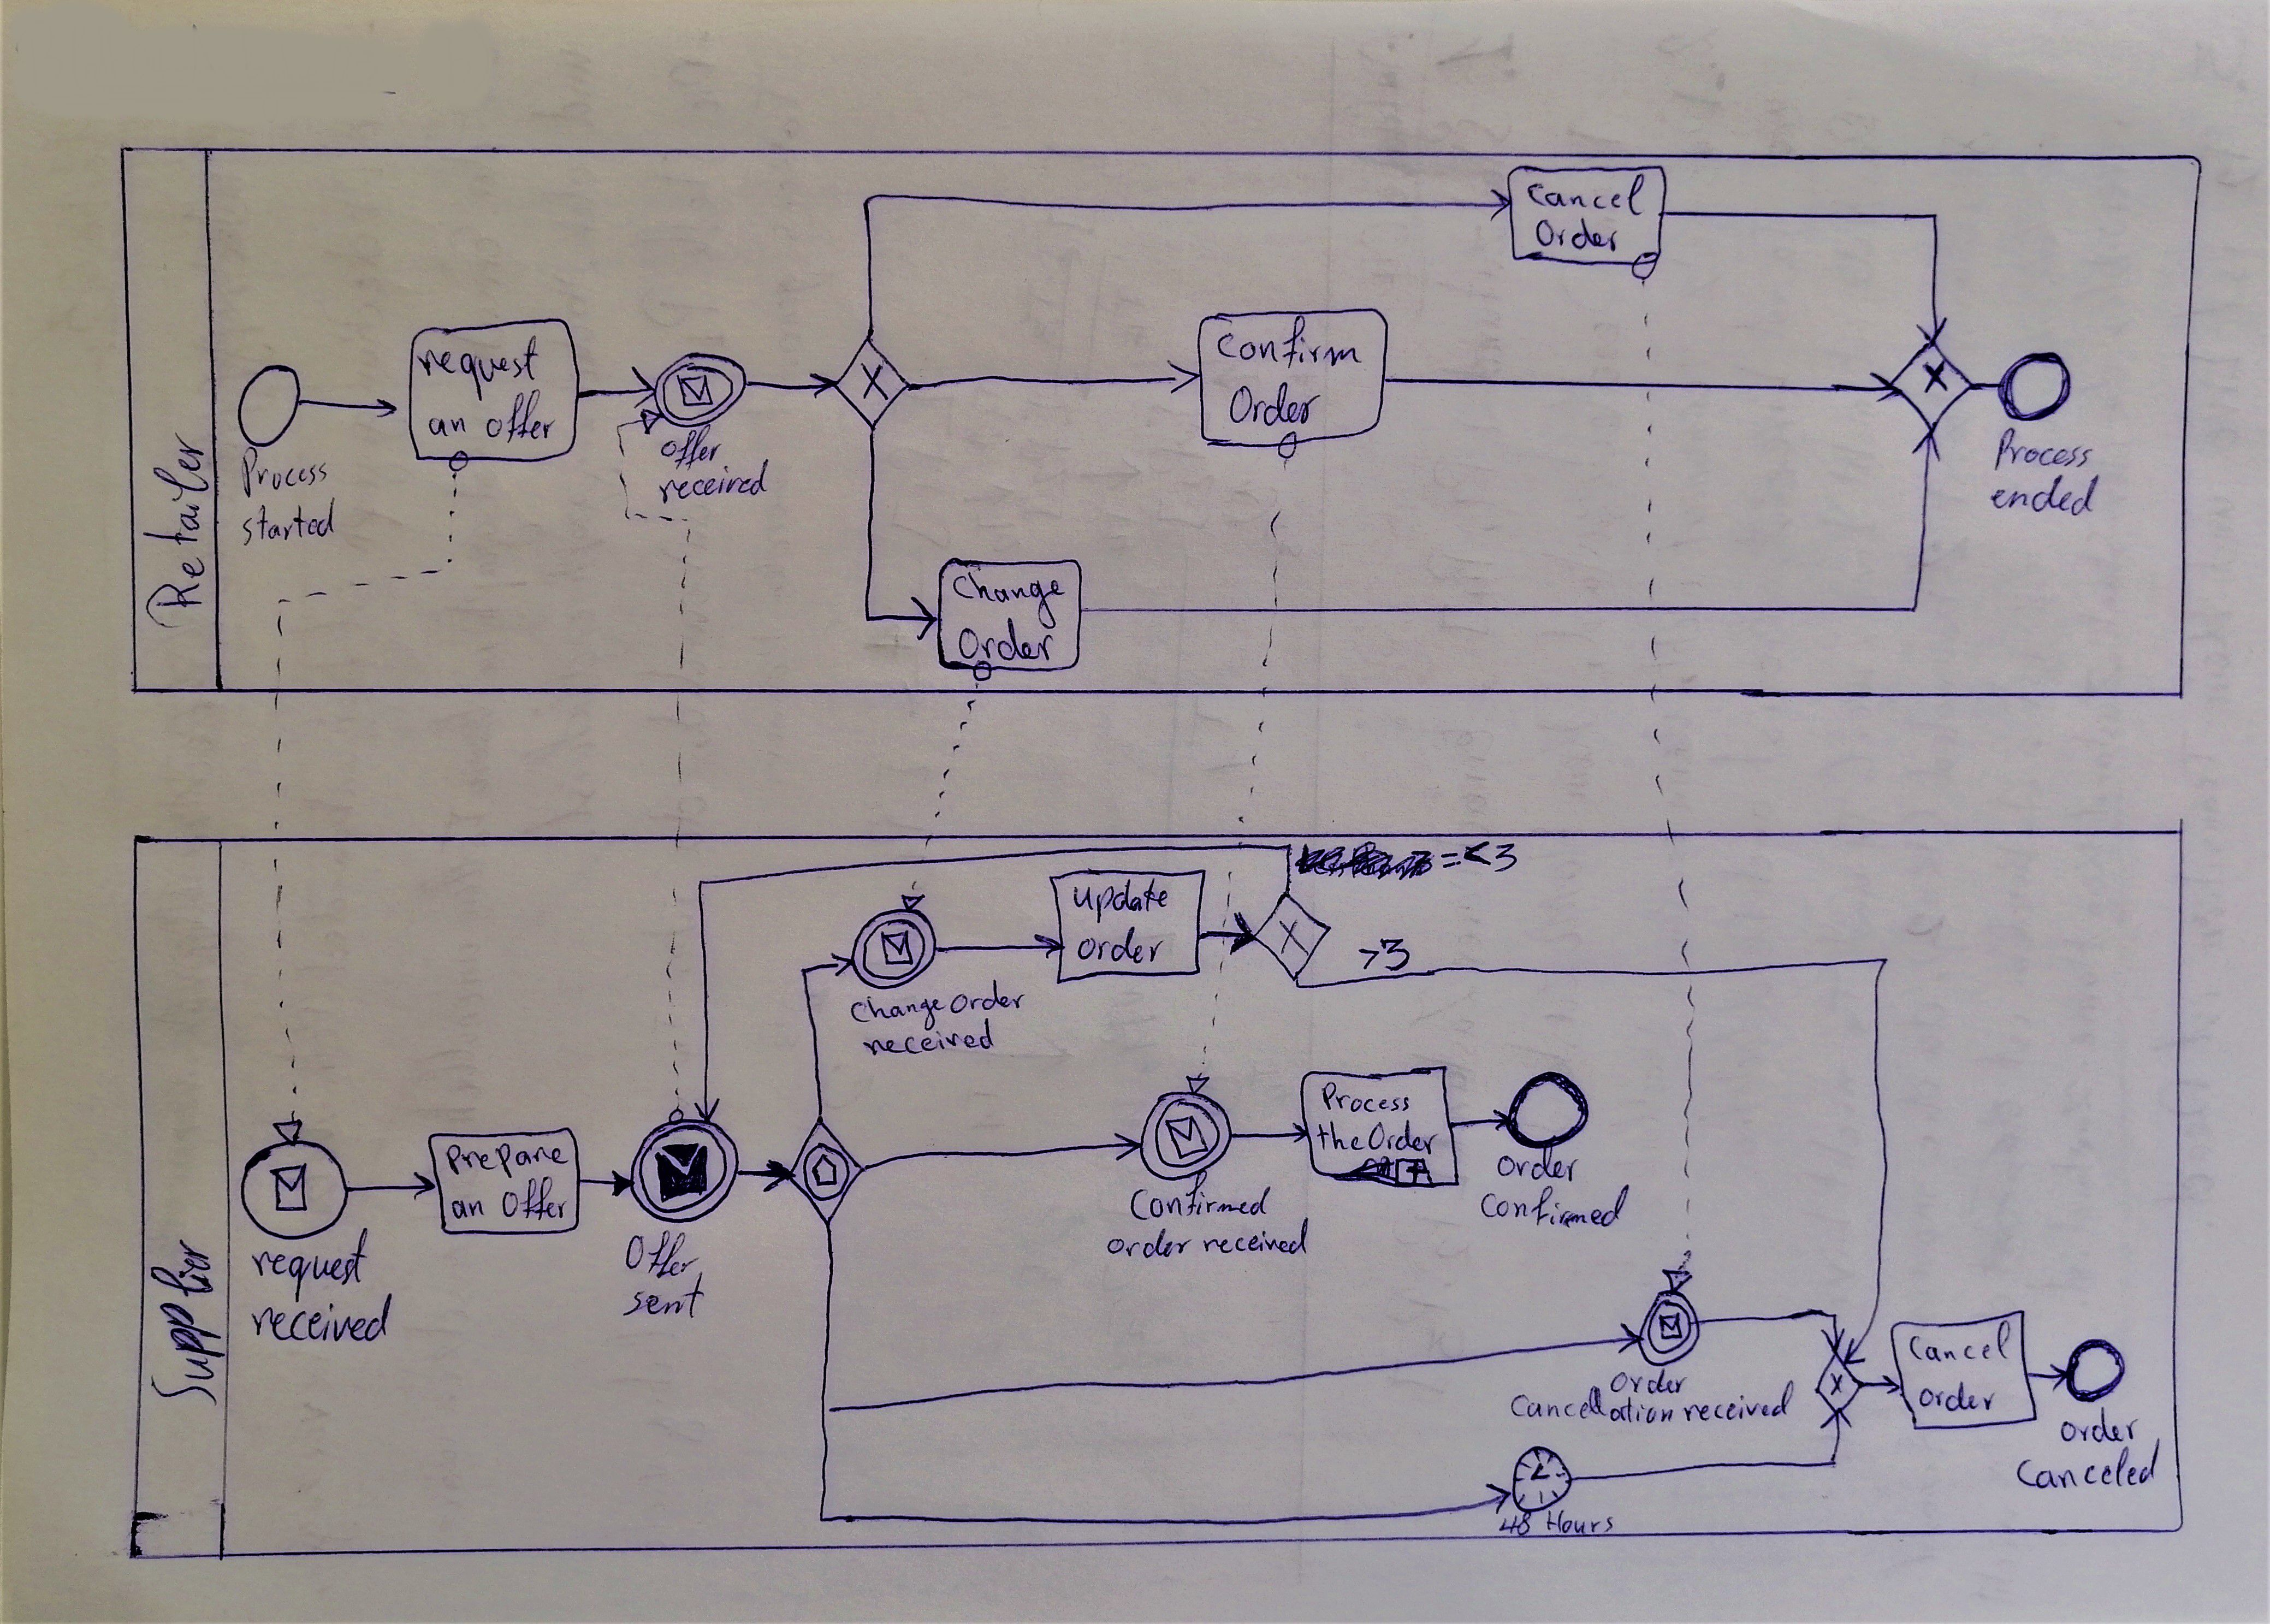48: (1500, 1512, 1530, 1538)
=<3: (1441, 833, 1522, 881)
>3: (1355, 935, 1414, 975)
Cancelation: (1509, 1387, 1676, 1427)
Canceled: (2010, 1450, 2158, 1494)
Change: (949, 569, 1068, 610), (849, 988, 945, 1032)
Confirm: (1214, 329, 1362, 373)
Confirmed: (1474, 1192, 1629, 1229)
Hours: (1546, 1508, 1622, 1531)
Offer: (502, 1179, 566, 1222)
Order: (945, 612, 1061, 664), (1228, 383, 1323, 429), (1490, 1142, 1580, 1186), (1532, 216, 1627, 257), (1917, 1380, 1999, 1413), (1365, 1118, 1434, 1153)
Process: (1989, 429, 2093, 473), (232, 457, 329, 496), (1318, 1083, 1416, 1116)
Retailer: (137, 436, 218, 617)
Supplier: (139, 1243, 218, 1406)
an: (422, 410, 471, 439), (445, 1197, 487, 1216)
cancel: (1894, 1320, 2019, 1367), (1525, 176, 1650, 216)
confirmed: (1126, 1174, 1272, 1222)
ended: (1989, 476, 2094, 518)
offer: (487, 388, 559, 443), (615, 1241, 705, 1276), (661, 434, 720, 466)
order: (1100, 1222, 1196, 1265), (1075, 928, 1168, 970), (2056, 1410, 2147, 1452), (949, 979, 1024, 1019), (1613, 1357, 1685, 1399)
prepare: (445, 1130, 564, 1169)
received: (248, 1302, 394, 1343), (868, 1023, 998, 1062), (657, 468, 770, 510), (1683, 1381, 1792, 1424), (1204, 1227, 1307, 1260)
request: (249, 1237, 376, 1292), (418, 341, 543, 383)
sent: (615, 1283, 717, 1322)
started: (239, 506, 343, 543)
the: (1305, 1120, 1362, 1155)
update: (1072, 879, 1168, 919)
